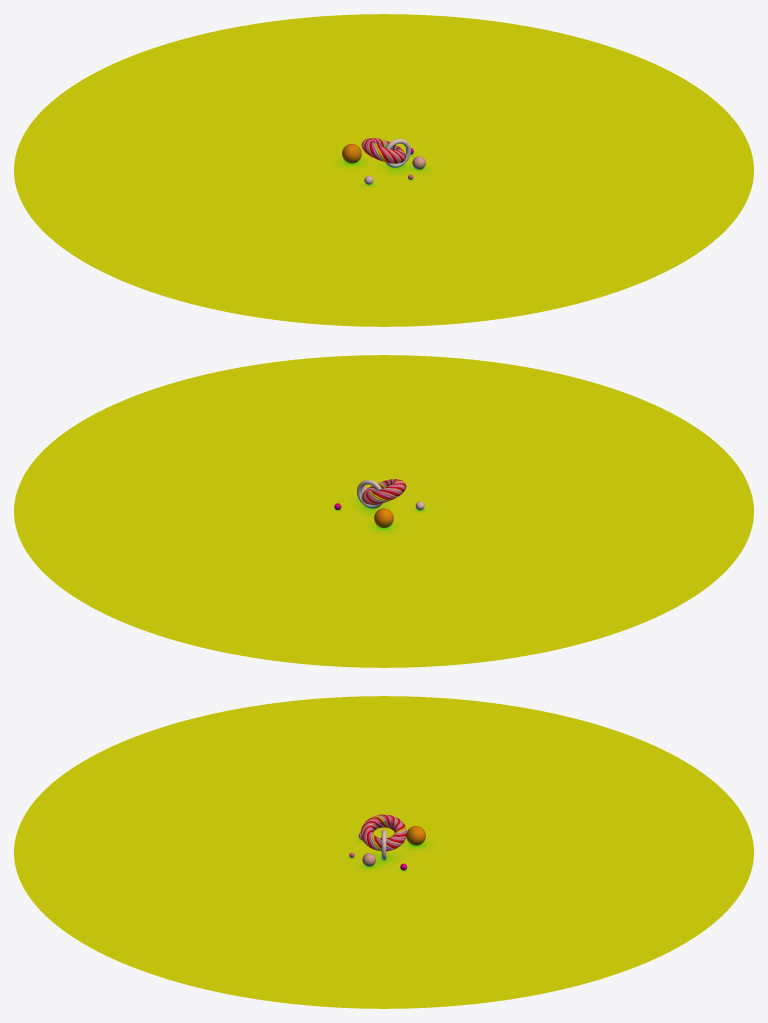
File: plasma.glb
3 renders of one model, top to bottom at view 1: azimuth 30°, elevation 25°; view 2: azimuth 150°, elevation 25°; view 3: azimuth 270°, elevation 25°, orthographic.
Parts seen in each view (by area): view 1: plasma; view 2: plasma; view 3: plasma.
Boxes of the visible parts, <box> form: plasma: <box>14,14,753,326</box>; plasma: <box>14,355,753,667</box>; plasma: <box>14,696,753,1008</box>.
Bounding box in the file's own units: 60 × 2.79 × 60.
